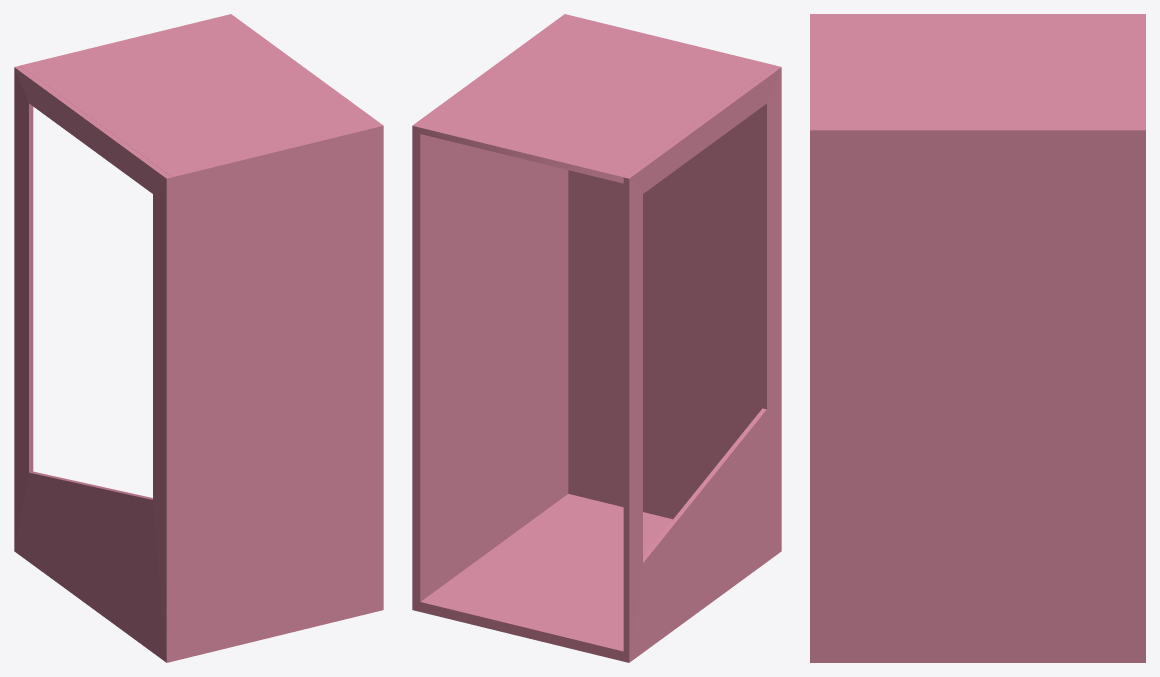
File: OU_D_BarbieCabin_01_D.fbx
3 views of the same model, side by side, from view 1: azimuth 30°, elevation 25°; view 2: azimuth 150°, elevation 25°; view 3: azimuth 270°, elevation 25° (orthographic). The views are drawn at different scales.
Parts seen in each view (by area): view 1: OU_D_BarbieCabin_02_D; view 2: OU_D_BarbieCabin_02_D; view 3: OU_D_BarbieCabin_02_D.
Boxes of the visible parts, bbox=[...] form: OU_D_BarbieCabin_02_D: bbox=[14, 14, 383, 662]; OU_D_BarbieCabin_02_D: bbox=[412, 14, 781, 662]; OU_D_BarbieCabin_02_D: bbox=[810, 14, 1145, 662].
Bounding box in the file's own units: 144 × 306 × 175.
